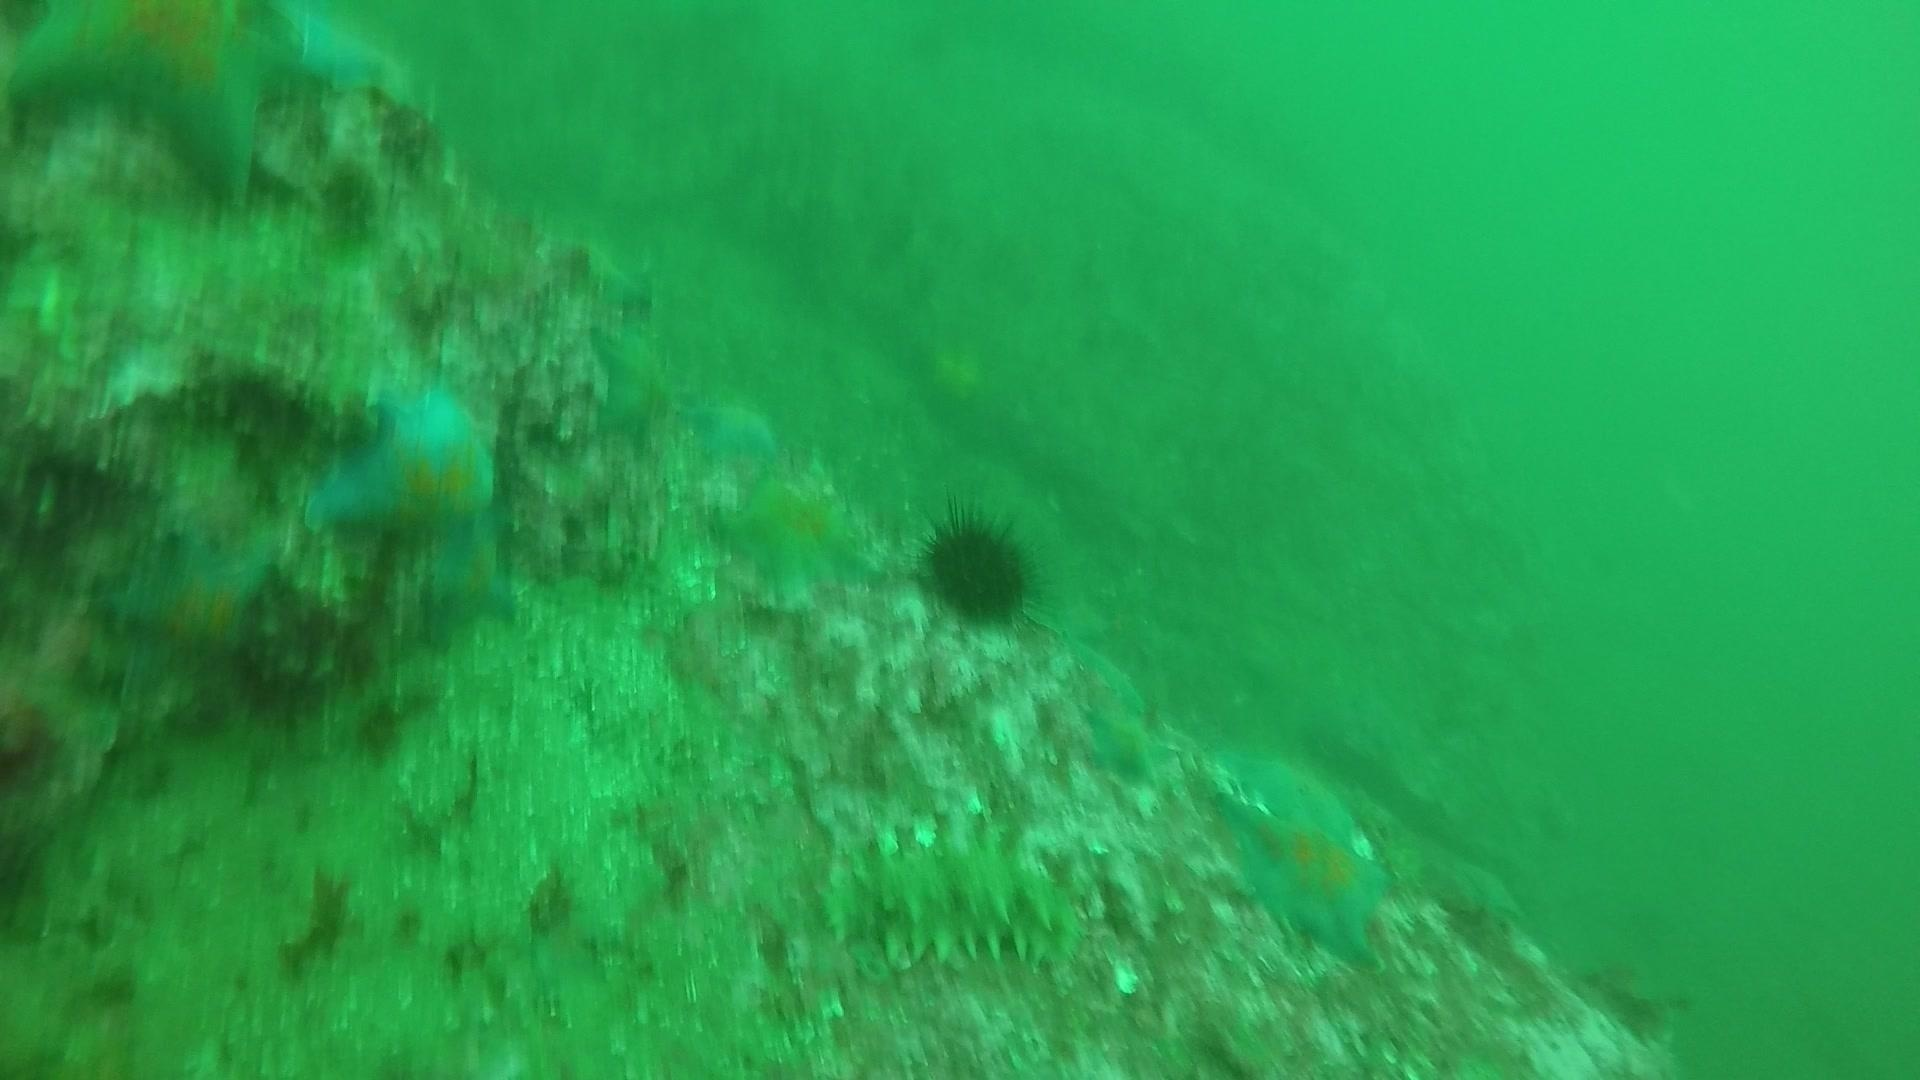echinus: (914, 504, 1044, 630)
holothurian: (818, 832, 1085, 977)
starfish: (0, 3, 377, 203), (301, 376, 520, 624), (1218, 793, 1395, 968), (102, 524, 282, 673), (721, 462, 876, 607), (268, 5, 417, 109), (1218, 746, 1367, 849), (585, 319, 678, 444), (1075, 680, 1174, 787), (683, 386, 785, 467)
